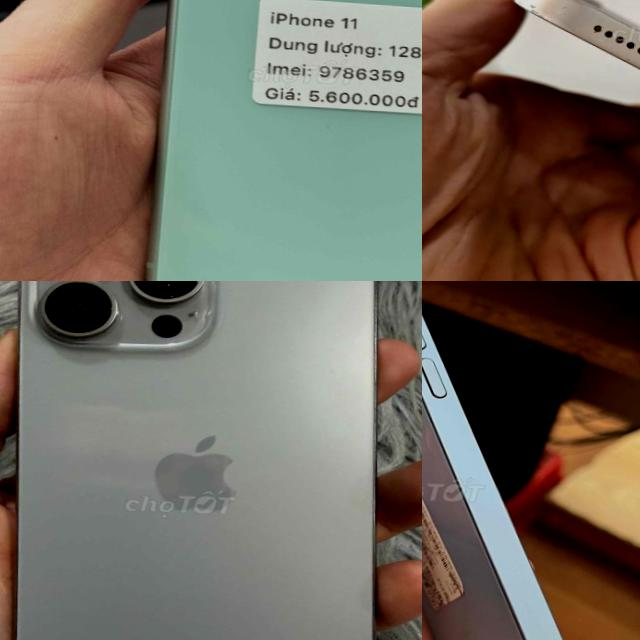gen_11: (114, 0, 422, 281)
gen_12_13: (513, 0, 640, 176)
gen_14: (422, 281, 616, 640)
gen_15: (0, 281, 407, 640)
